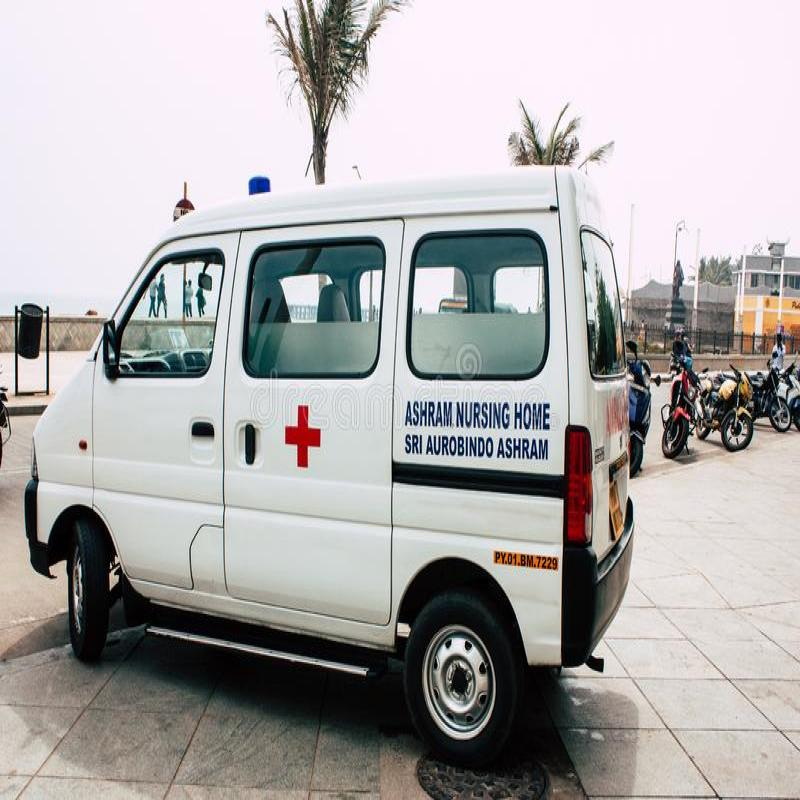ambulance: (22, 159, 637, 785)
